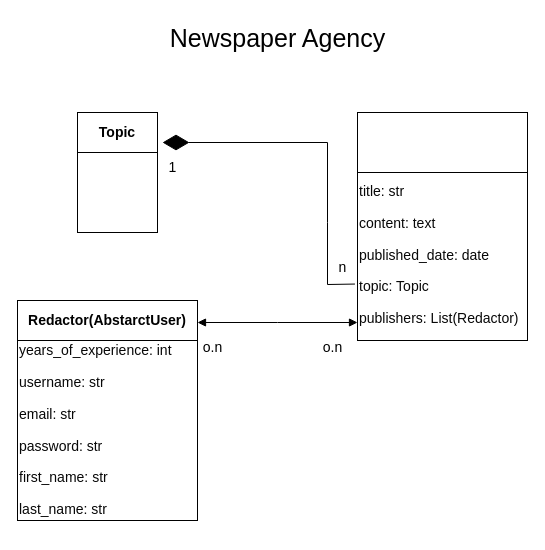
This 545x550 diagram has some shape labels left out. Each missing label, with the box of its shape:
name: str: (76, 152, 158, 232)
Newspaper: (356, 112, 528, 172)
